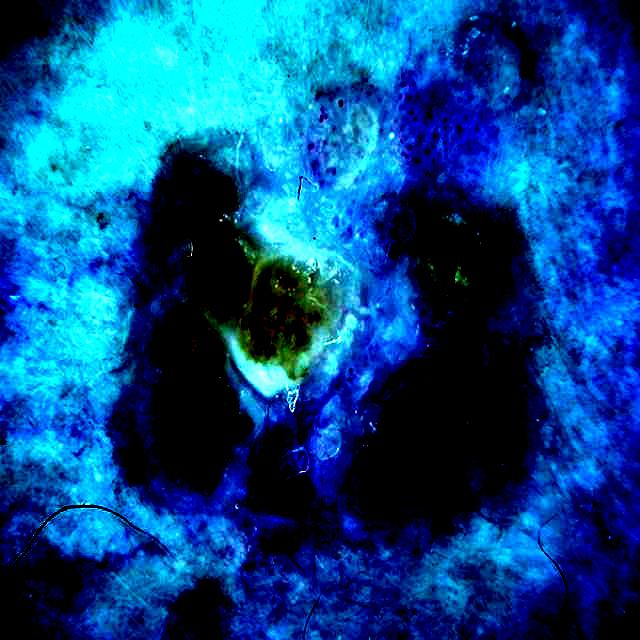BKL: (113, 28, 546, 585)
